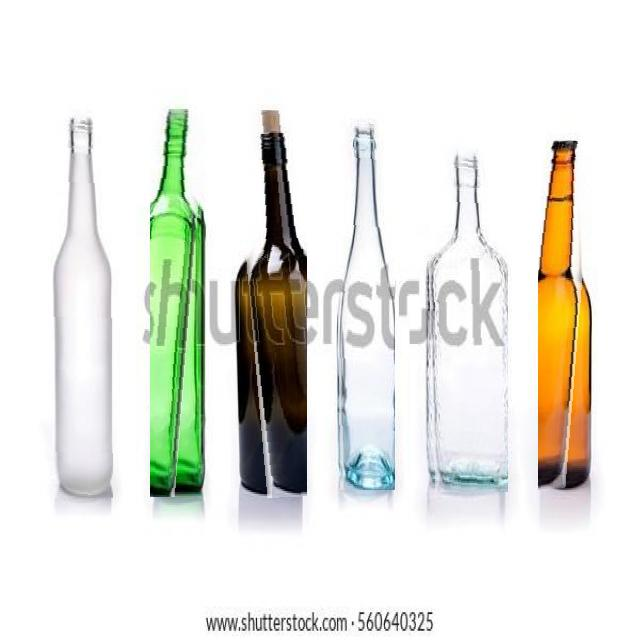Glass: (234, 110, 308, 498), (425, 149, 508, 492), (52, 114, 114, 498), (335, 121, 395, 490), (150, 109, 206, 497), (538, 141, 594, 492)
